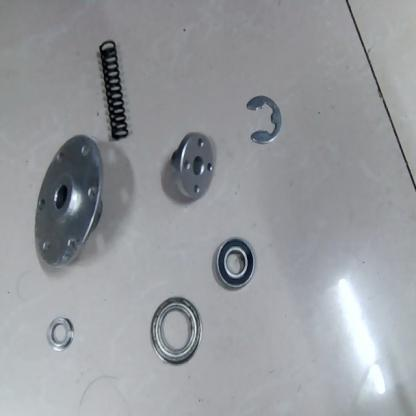FOD: (10, 11, 415, 413), (32, 131, 104, 268), (164, 127, 218, 203), (95, 38, 132, 142), (149, 294, 203, 364), (214, 235, 258, 290), (244, 93, 282, 146), (43, 317, 76, 356)
